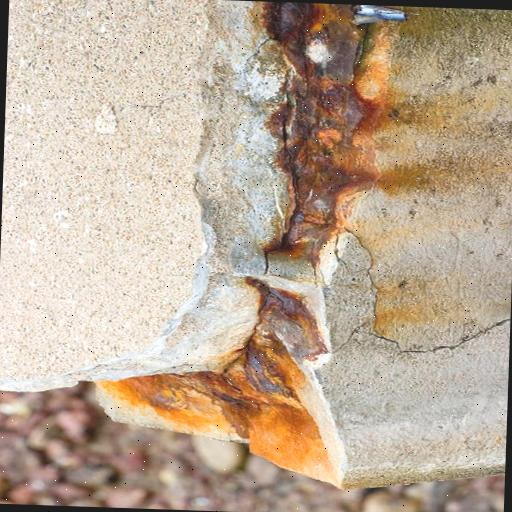spalling: (96, 3, 397, 489)
